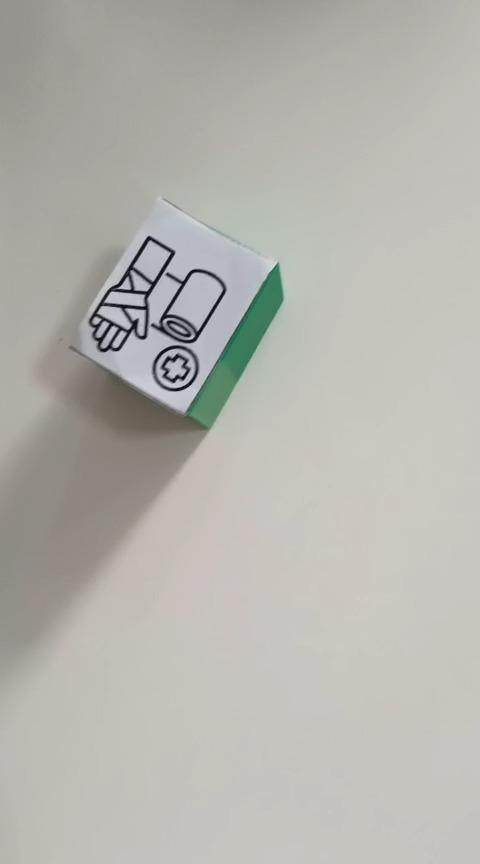Bandages: (67, 195, 284, 429)
